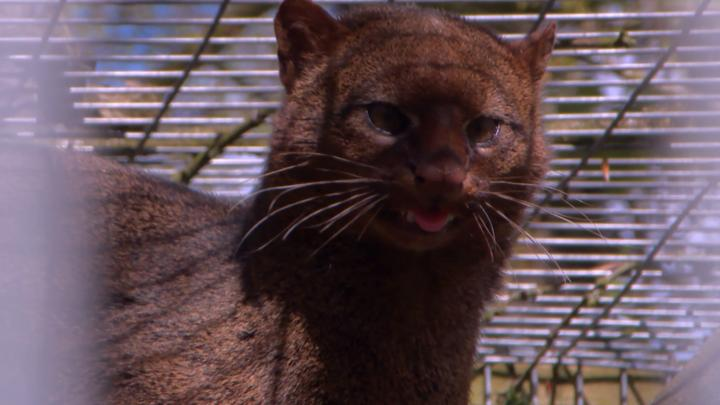Jaguarundi: (133, 3, 577, 400)
